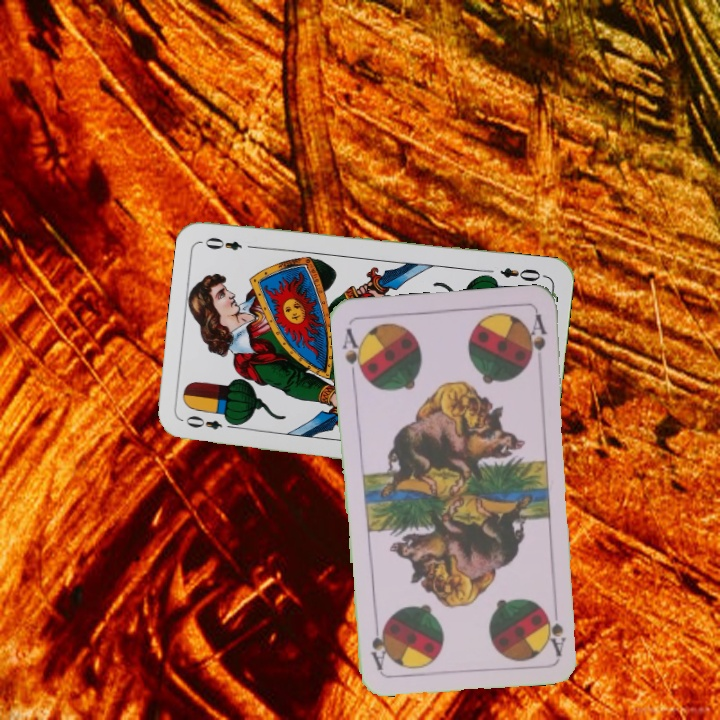EO: (181, 411, 240, 433), (496, 263, 548, 284)
SA: (338, 324, 368, 382), (545, 598, 569, 658)
